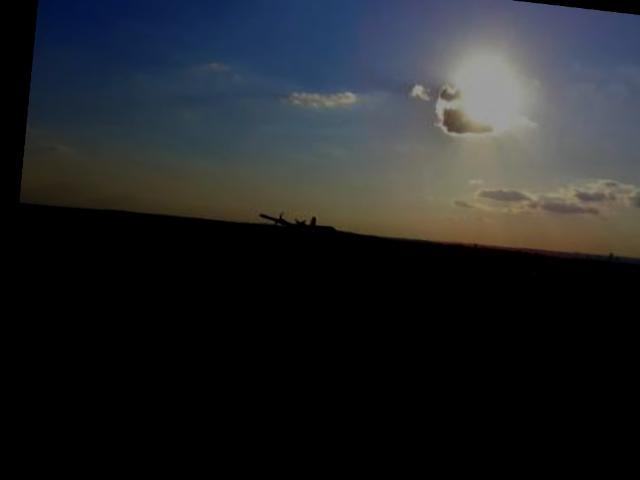uav: (248, 209, 337, 256)
